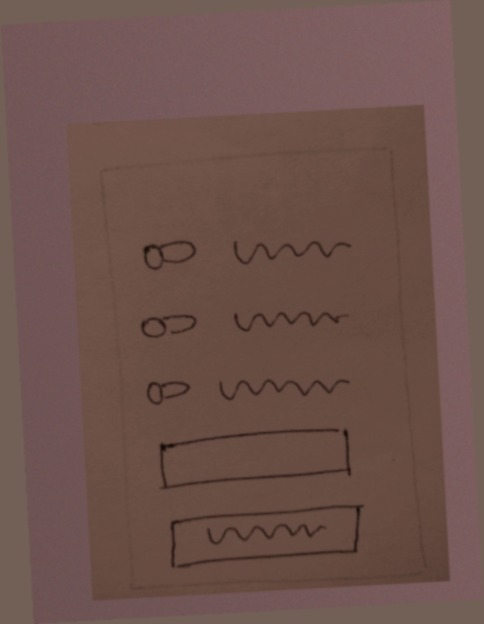switch: (135, 226, 207, 278), (132, 302, 204, 348), (138, 370, 202, 414)
text: (211, 353, 357, 417), (224, 222, 357, 277), (223, 292, 356, 340)
text_input: (146, 417, 359, 497)
